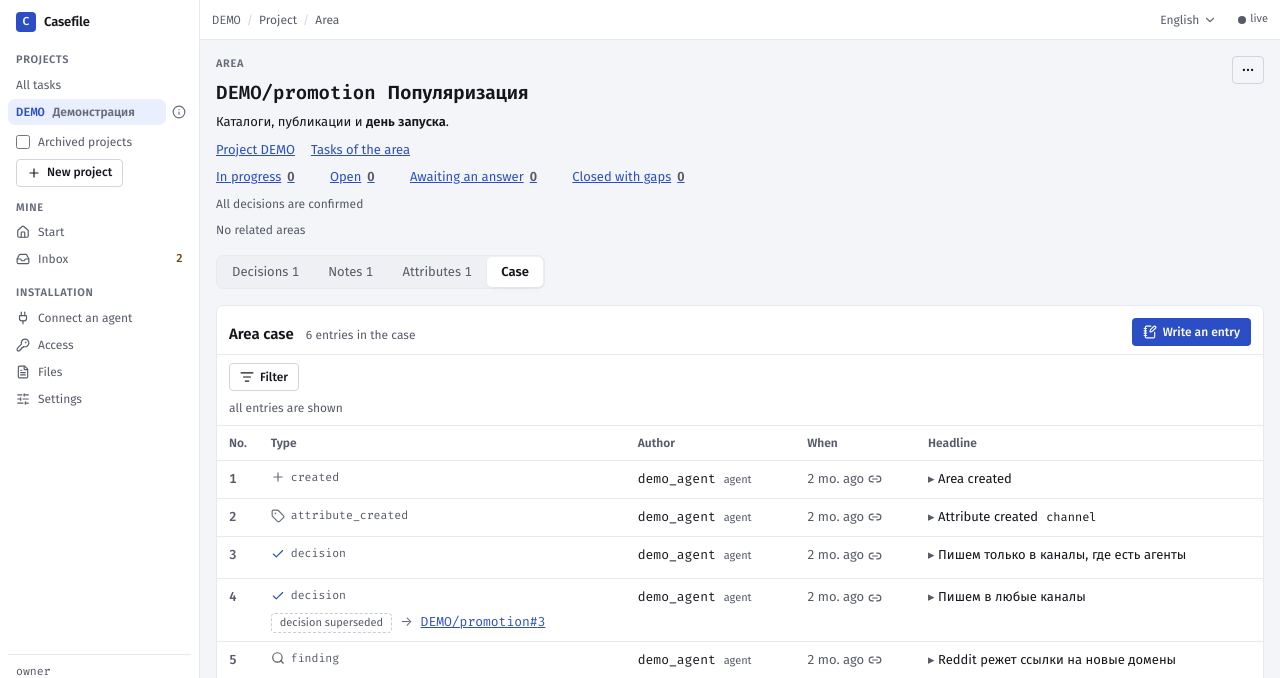
Test case: страница области › тело записи читается адресом записи области, номер уходит в адрес страницы
Click the button "Пишем только в каналы, где есть агенты" at (1057, 555), box [928,545,1186,564]
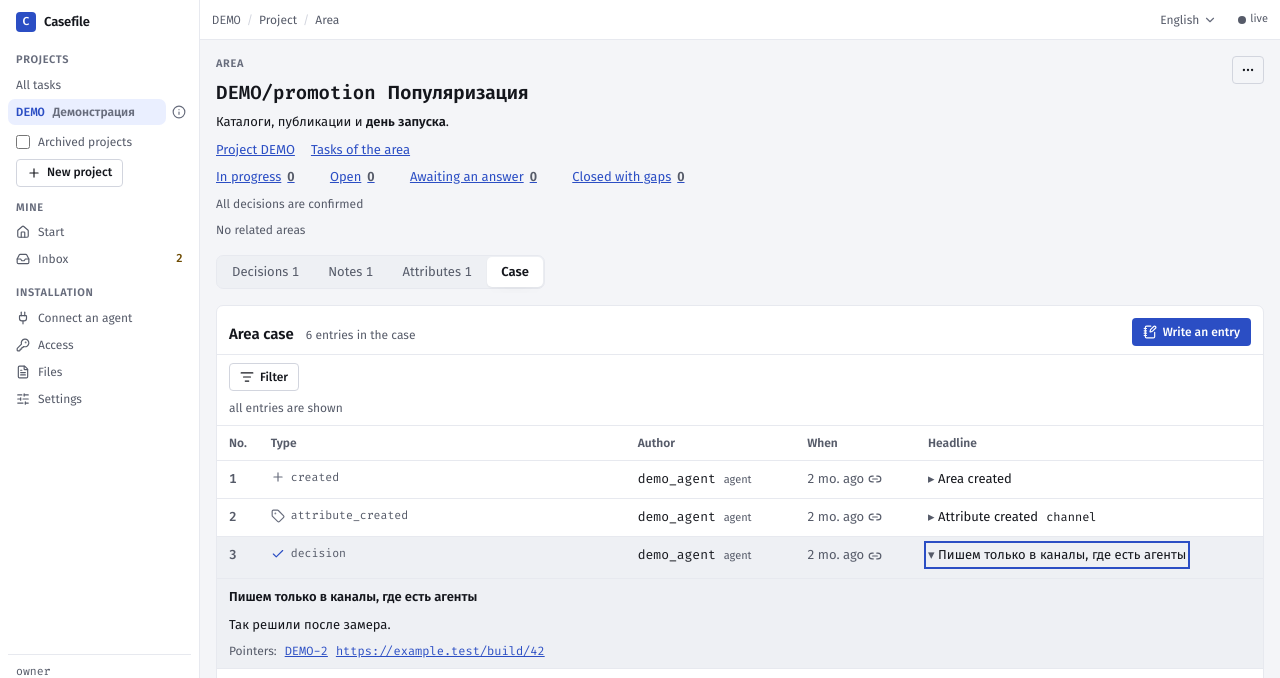
Result: the text "Так решили после замера." is shown at [229,617,391,632]
